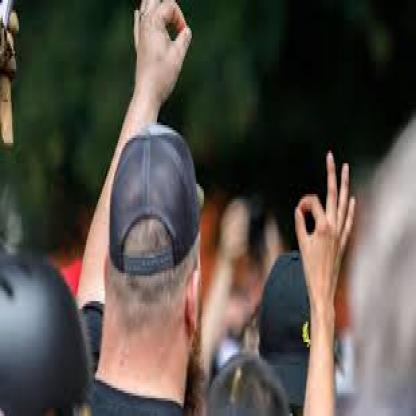ok: (294, 150, 359, 309)
